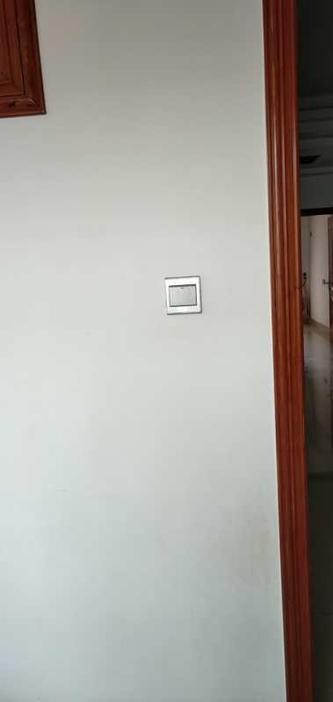switch: (165, 280, 204, 318)
